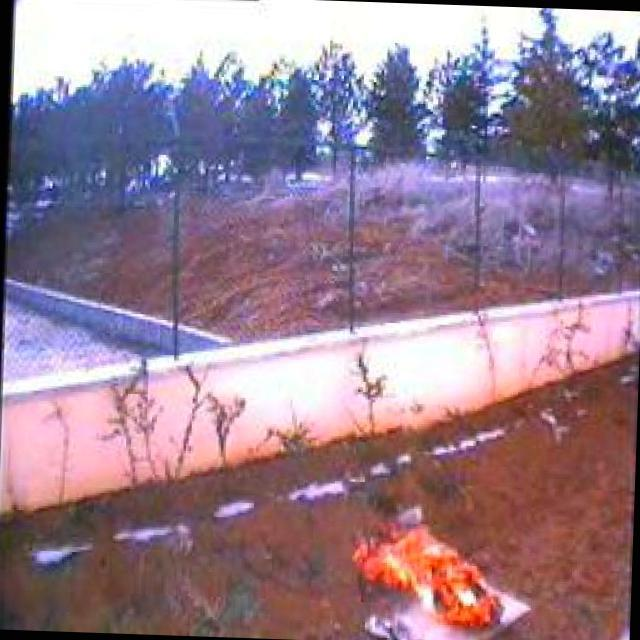Fire: (346, 511, 514, 637)
